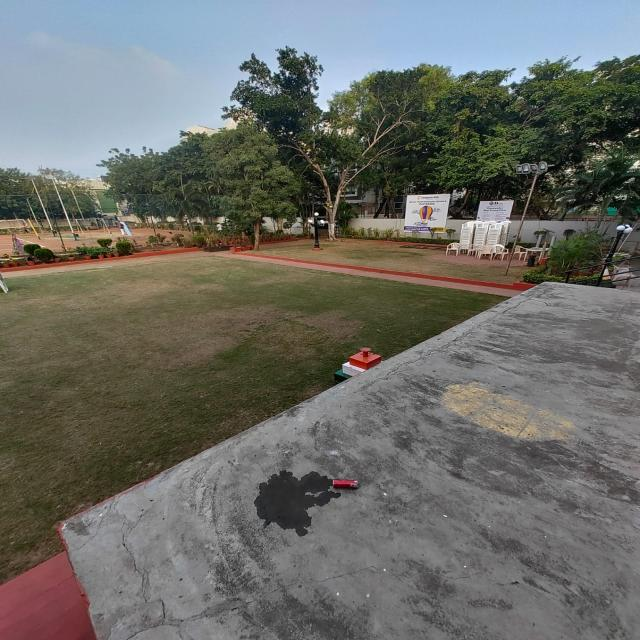cup: (332, 478, 360, 490)
spill: (254, 472, 334, 532)
